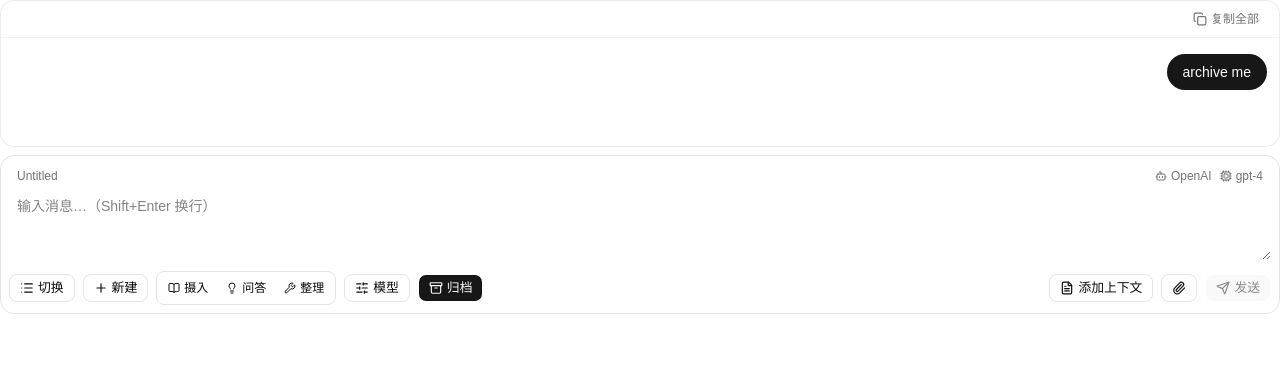
IngestChat › adds wiki mention chip when selecting from @ picker
This screenshot has width=1280, height=367.
Simulate typing @ in textarea — dispatch native input event for the DOM listener
In the text box with placeholder "输入消息…（Shift+Enter 换行）": (640, 224) [9, 188, 1271, 260], type "@"
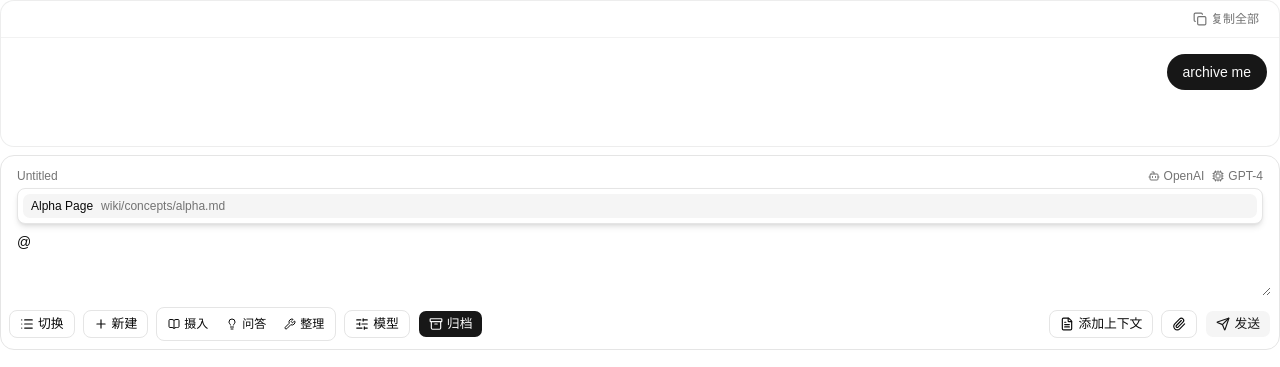
Click the button "Alpha Page wiki/concepts/alpha.md": (62, 206) [22, 193, 1258, 219]
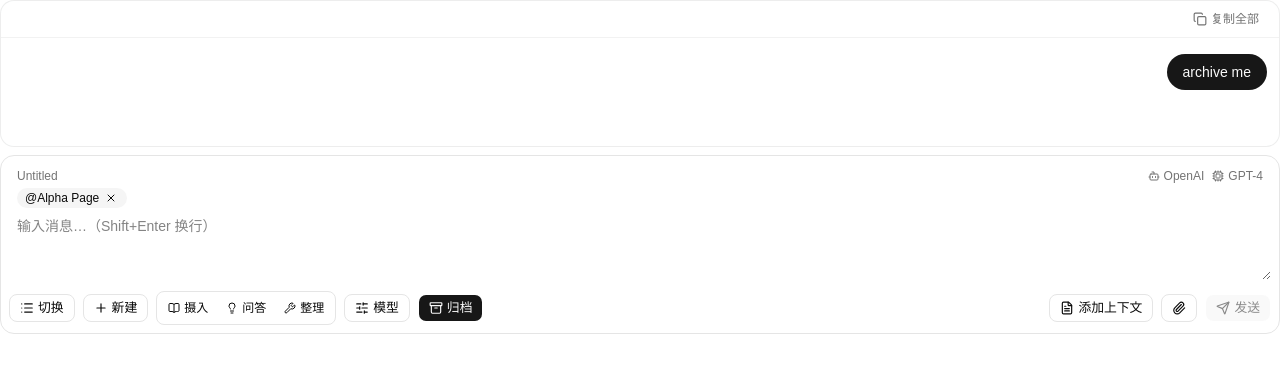
Now the text "@Alpha Page" is shown, box [17, 188, 127, 208]
